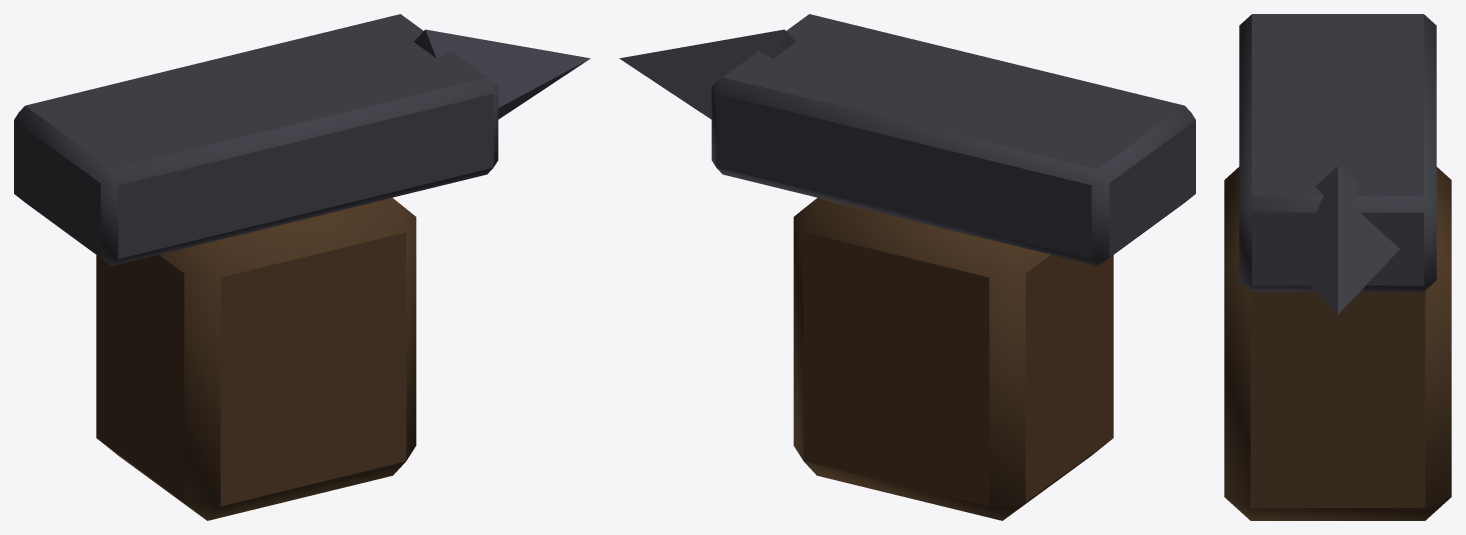
The model's file is anvil.glb.
The picture shows the model from 3 angles, left to right: view 1: azimuth 30°, elevation 25°; view 2: azimuth 150°, elevation 25°; view 3: azimuth 270°, elevation 25°; orthographic projection.
Parts seen in each view (by area): view 1: building; view 2: building; view 3: building.
Part boxes in pixels (left/top/right/bottom): building: left=14, top=14, right=590, bottom=520; building: left=619, top=14, right=1195, bottom=520; building: left=1224, top=14, right=1451, bottom=520.
Size of the model in its own units: 0.805 by 0.57 by 0.3.
